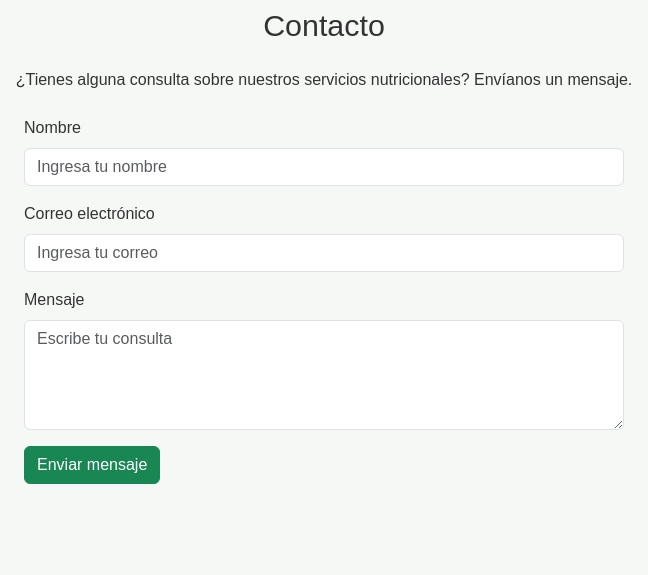
Test case: Pruebas del formulario de Contacto › Debe mostrar un error si los campos están vacíos
The image size is (648, 575).
Click the button "Enviar mensaje" at (92, 464), box 24,446 -> 160,484
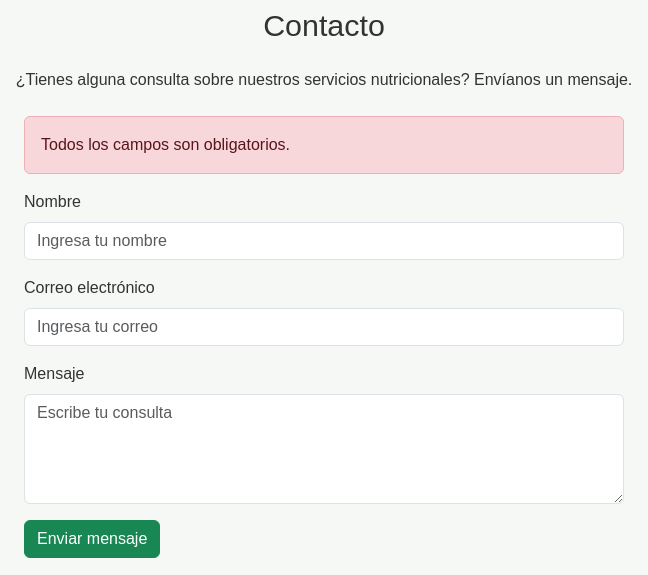
Check: the message reads "Todos los campos son obligatorios.", box 41,136 -> 290,152
